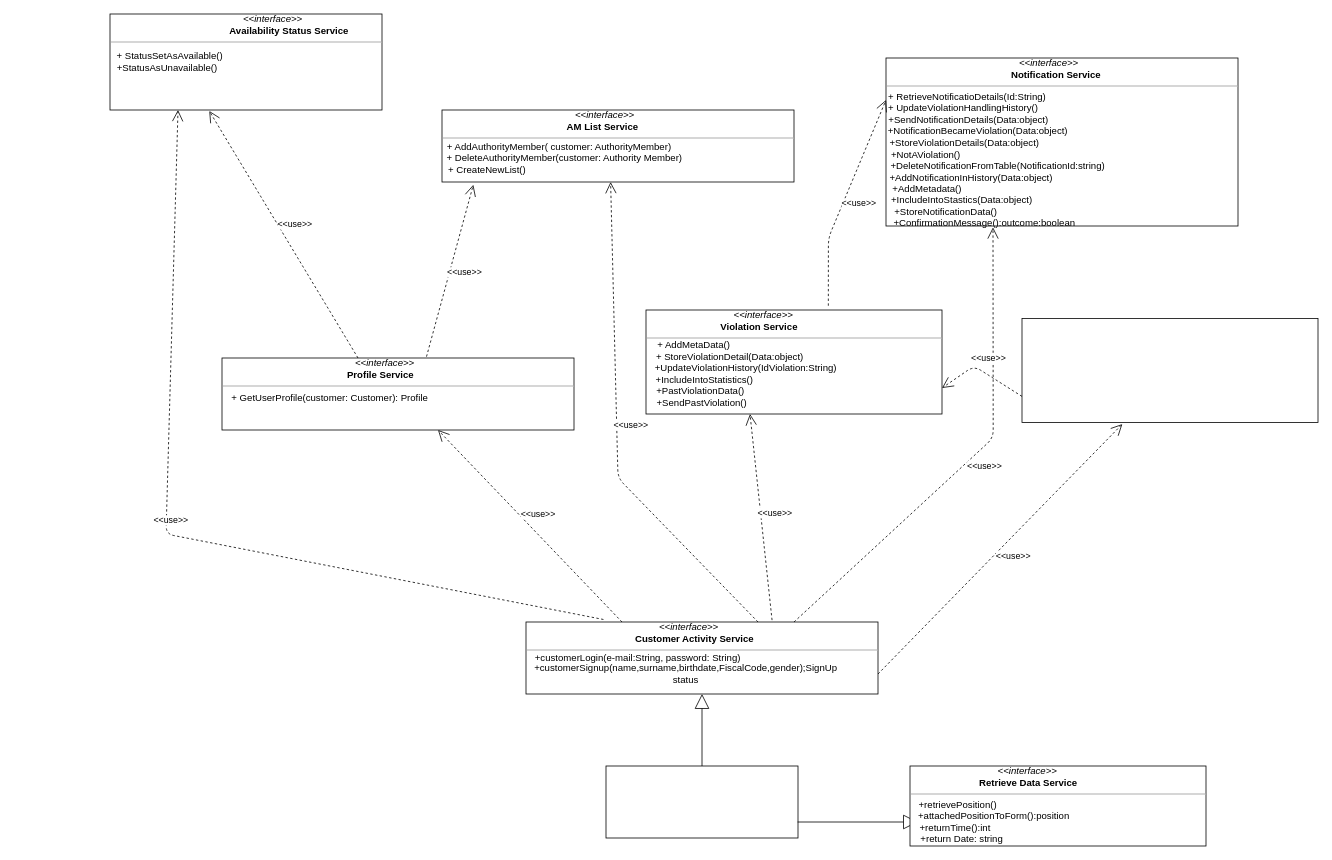
This 1332x860 diagram has some shape labels left out. Here are the shapes that lost their labels. From the top down, the centre of each, then its label:
At (x=1169, y=370): "<<interface>> Ticket Service".
At (x=701, y=801): "<<interface>> Customer Mobile Service".
